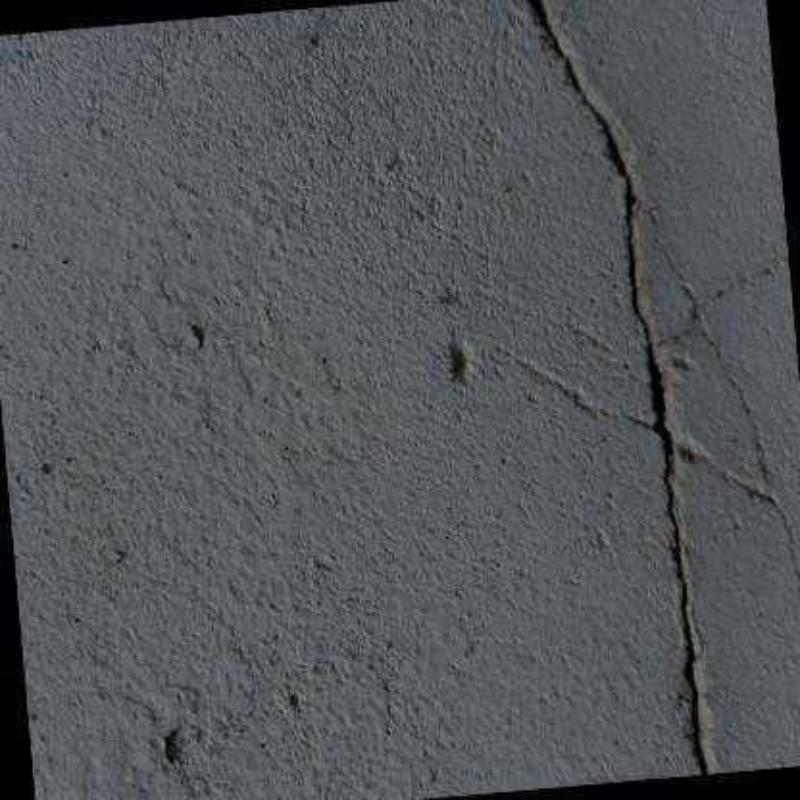pothole: (526, 0, 717, 775)
